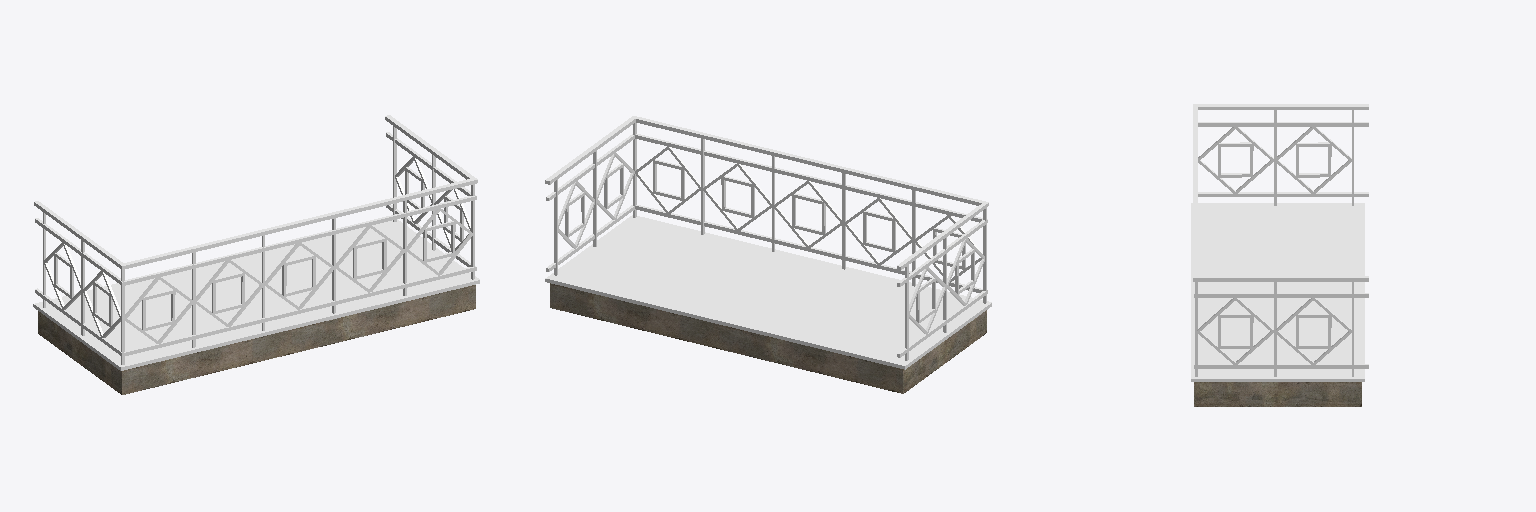
The picture shows the model from 3 angles: view 1: azimuth 30°, elevation 25°; view 2: azimuth 150°, elevation 25°; view 3: azimuth 270°, elevation 25°; orthographic projection.
Parts seen in each view (by area): view 1: Box02, C_Ext01, Box01; view 2: Box02, C_Ext01, Box01; view 3: Box02, C_Ext01, Box01.
Boxes of the visible parts, x1=… form: Box02: x1=33, y1=219, x2=479, y2=370; C_Ext01: x1=34, y1=115, x2=477, y2=364; Box01: x1=38, y1=285, x2=475, y2=394; Box02: x1=545, y1=215, x2=991, y2=369; C_Ext01: x1=545, y1=116, x2=988, y2=360; Box01: x1=550, y1=283, x2=986, y2=393; Box02: x1=1191, y1=203, x2=1364, y2=381; C_Ext01: x1=1193, y1=104, x2=1368, y2=376; Box01: x1=1194, y1=382, x2=1361, y2=406.
Size of the model in its own units: 3.05 by 1.05 by 1.31.
3 materials, 1 textured.